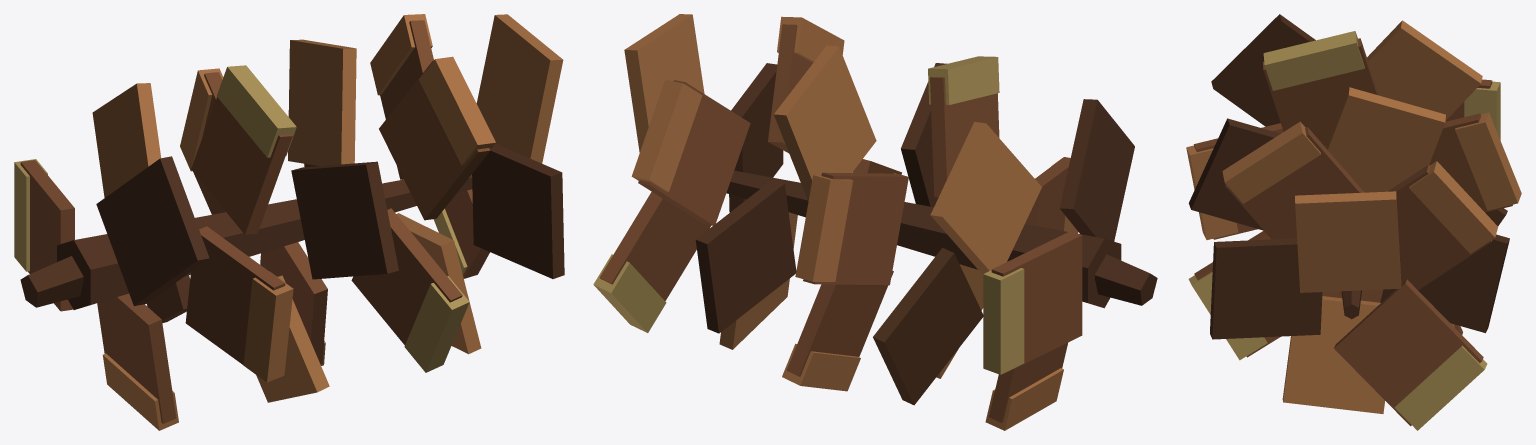
Rendered from pinecone_small.glb.
3 renders of one model, left to right at view 1: azimuth 30°, elevation 25°; view 2: azimuth 150°, elevation 25°; view 3: azimuth 270°, elevation 25°, orthographic. The views are drawn at different scales.
Parts seen in each view (by area): view 1: PineconeSmall; view 2: PineconeSmall; view 3: PineconeSmall.
Part boxes in pixels (x1,y1,x2,y2): PineconeSmall: (14,14,564,430); PineconeSmall: (593,14,1157,430); PineconeSmall: (1186,14,1521,430).
Bounding box in the file's own units: 0.044 × 0.0281 × 0.0279.
